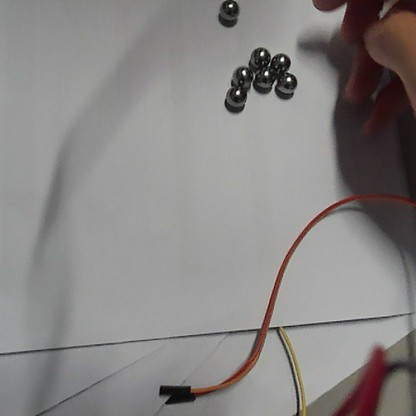ironball: (222, 81, 249, 109), (214, 0, 244, 24), (274, 69, 298, 95), (253, 65, 274, 93), (229, 64, 254, 86), (249, 46, 272, 69), (271, 52, 292, 72)
